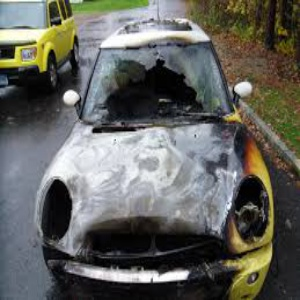front_windshield_glass: (98, 53, 213, 114)
